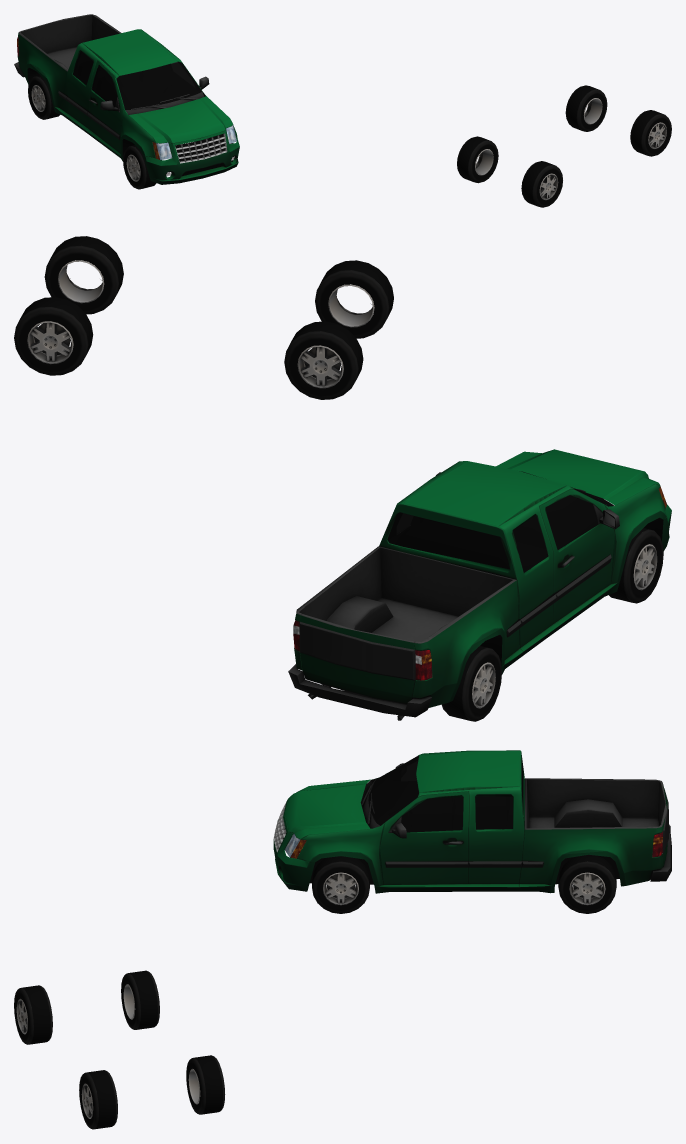
The model's file is generico-picape.glb.
3 renders of one model, top to bottom at view 1: azimuth 30°, elevation 25°; view 2: azimuth 150°, elevation 25°; view 3: azimuth 270°, elevation 25°, orthographic. The views are drawn at different scales.
Visible parts, largest first — view 1: Pickup Body, Wheel_E002 (×2), Wheel_E003 (×2), Wheel_E001, Wheel_E; view 2: Pickup Body, Wheel_E003 (×2), Wheel_E002 (×2), Wheel_E, Wheel_E001; view 3: Pickup Body, Wheel_E001 (×2), Wheel_E (×2), Wheel_E003, Wheel_E002.
Boxes of the visible parts, left/top/right/bottom form: Pickup Body: left=14, top=14, right=239, bottom=184; Wheel_E002 (×2): left=123, top=136, right=498, bottom=189; Wheel_E003 (×2): left=28, top=75, right=607, bottom=131; Wheel_E001: left=630, top=110, right=671, bottom=156; Wheel_E: left=521, top=161, right=562, bottom=207; Pickup Body: left=288, top=449, right=671, bottom=720; Wheel_E003 (×2): left=14, top=297, right=501, bottom=721; Wheel_E002 (×2): left=284, top=321, right=663, bottom=603; Wheel_E: left=315, top=260, right=393, bottom=338; Wheel_E001: left=44, top=236, right=123, bottom=314; Pickup Body: left=273, top=750, right=671, bottom=893; Wheel_E001 (×2): left=79, top=854, right=616, bottom=1129; Wheel_E (×2): left=14, top=856, right=369, bottom=1044; Wheel_E003: left=186, top=1055, right=225, bottom=1114; Wheel_E002: left=121, top=970, right=159, bottom=1029.
Size of the model in its own units: 8.77 by 1.69 by 8.53.
5 materials, 4 textured.
